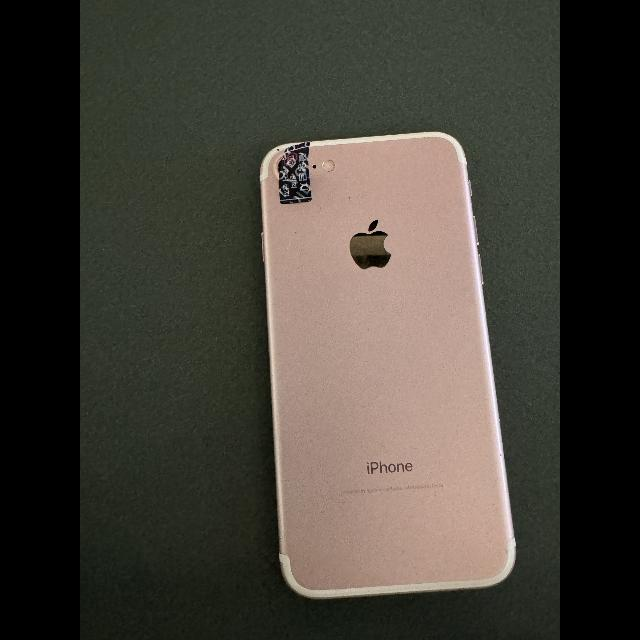phone: (260, 132, 515, 599)
sticker: (279, 142, 312, 204)
